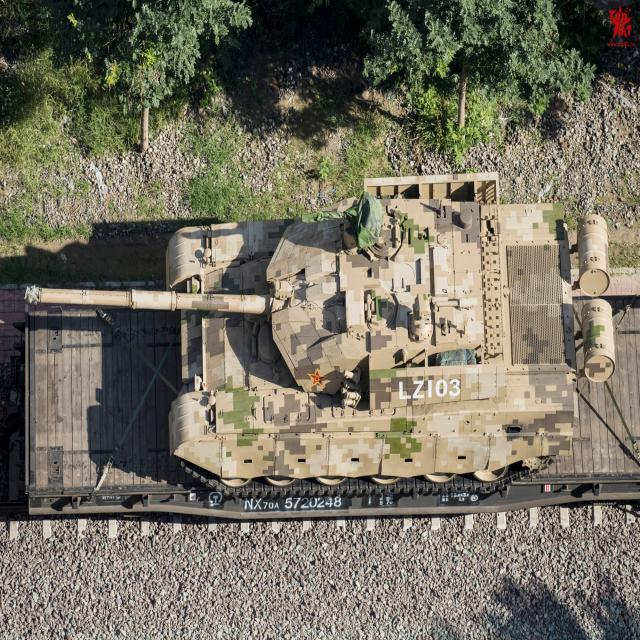Tanks: (21, 165, 616, 509)
